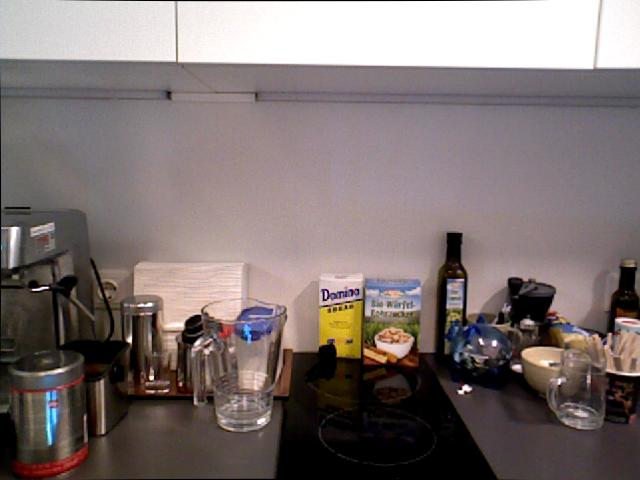bench: (435, 231, 467, 362), (607, 258, 639, 335)
bird: (520, 345, 590, 396), (373, 326, 415, 360)
handbag: (196, 295, 287, 432), (546, 348, 606, 430), (587, 346, 640, 429)
